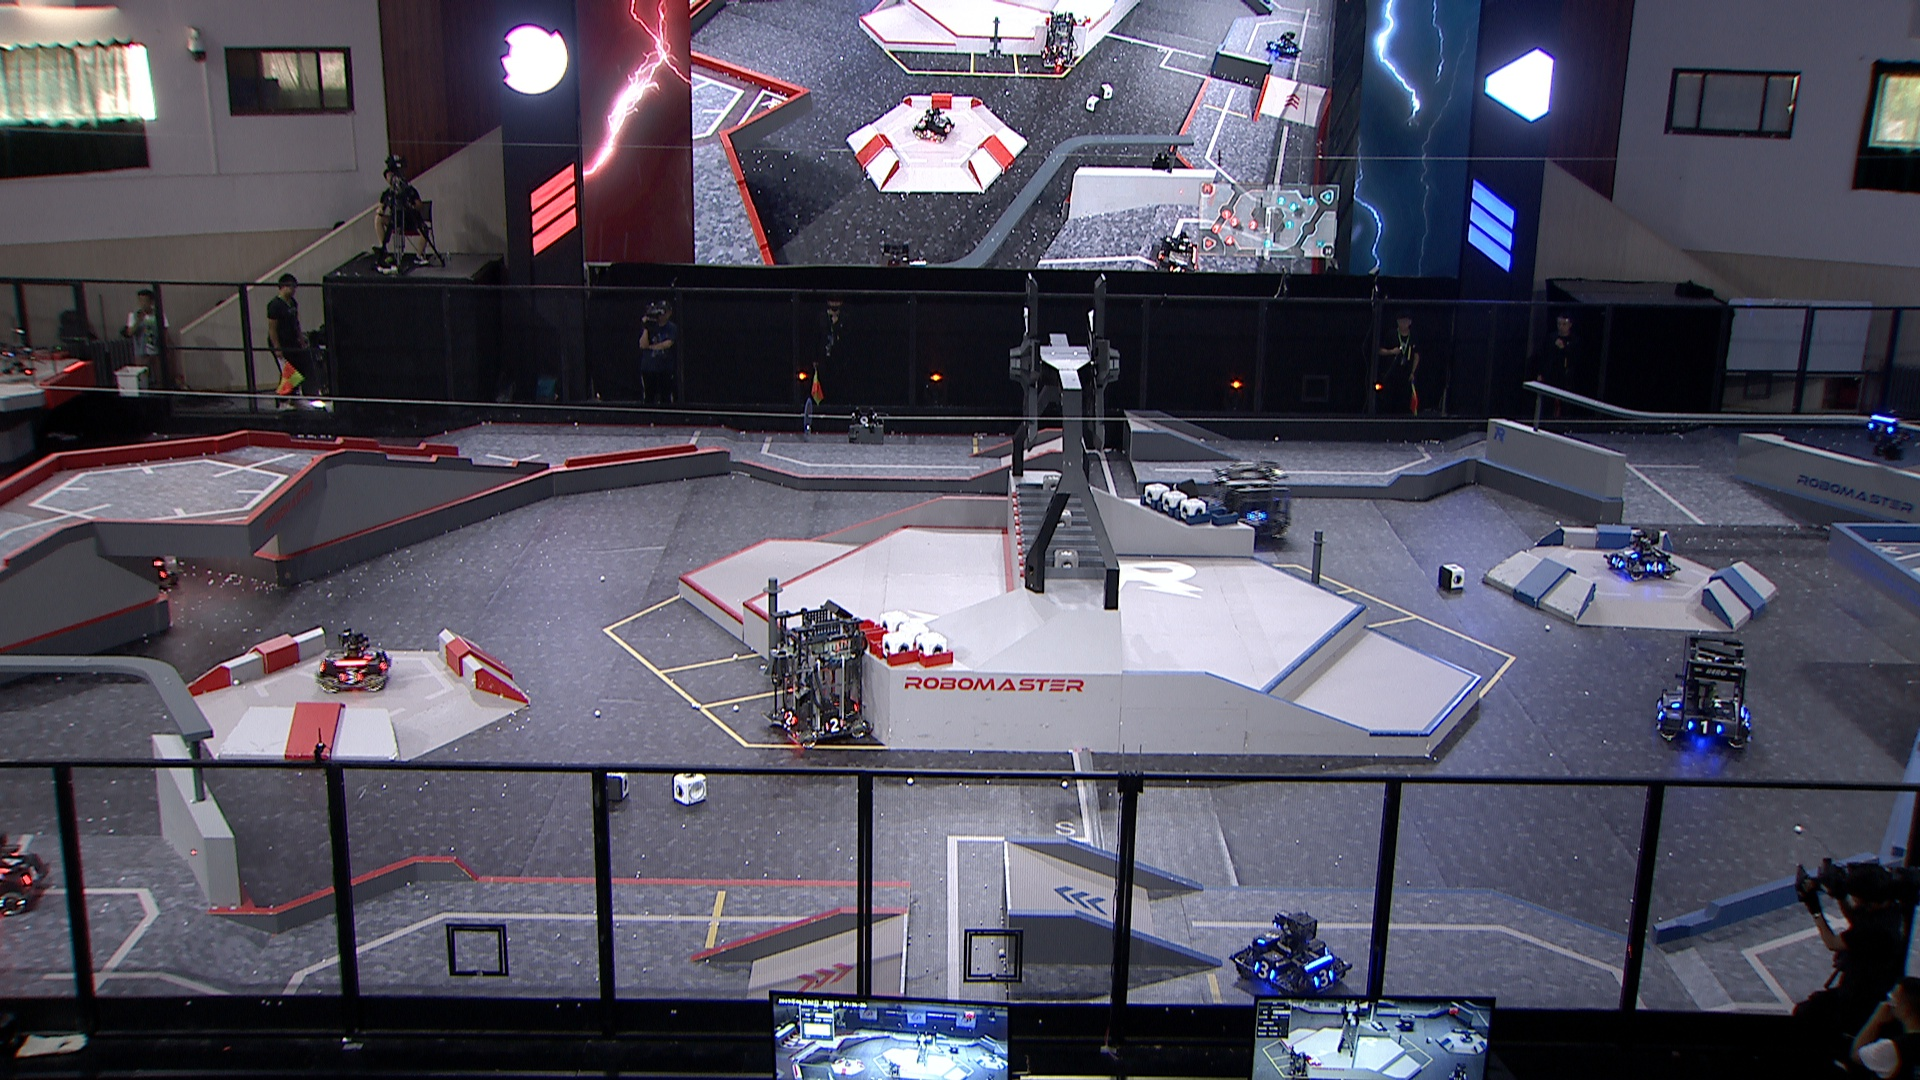armor: (1688, 717, 1722, 733), (1250, 959, 1276, 978), (3, 849, 20, 873), (1865, 419, 1892, 433), (22, 864, 41, 884), (1315, 968, 1335, 986), (822, 717, 847, 732), (338, 670, 361, 684), (1665, 694, 1684, 709), (1259, 928, 1278, 944), (1247, 509, 1266, 524), (782, 711, 798, 727), (1621, 546, 1636, 560), (365, 645, 378, 659), (1610, 555, 1623, 568), (1646, 560, 1662, 571), (380, 659, 390, 674)
car: (760, 603, 873, 745), (1651, 632, 1756, 756), (1232, 913, 1349, 998), (1204, 455, 1295, 546), (96, 534, 187, 604), (313, 624, 390, 698), (1605, 524, 1679, 584)
ignore: (1038, 11, 1081, 74), (1154, 229, 1203, 277), (913, 107, 959, 145), (1265, 29, 1305, 62), (877, 237, 915, 270), (1284, 1050, 1313, 1077), (1396, 1011, 1416, 1033), (1447, 1060, 1468, 1079), (1456, 1029, 1476, 1044), (885, 1060, 902, 1077), (944, 1043, 960, 1058), (1141, 135, 1149, 142)
watcher: (1858, 404, 1908, 460)
